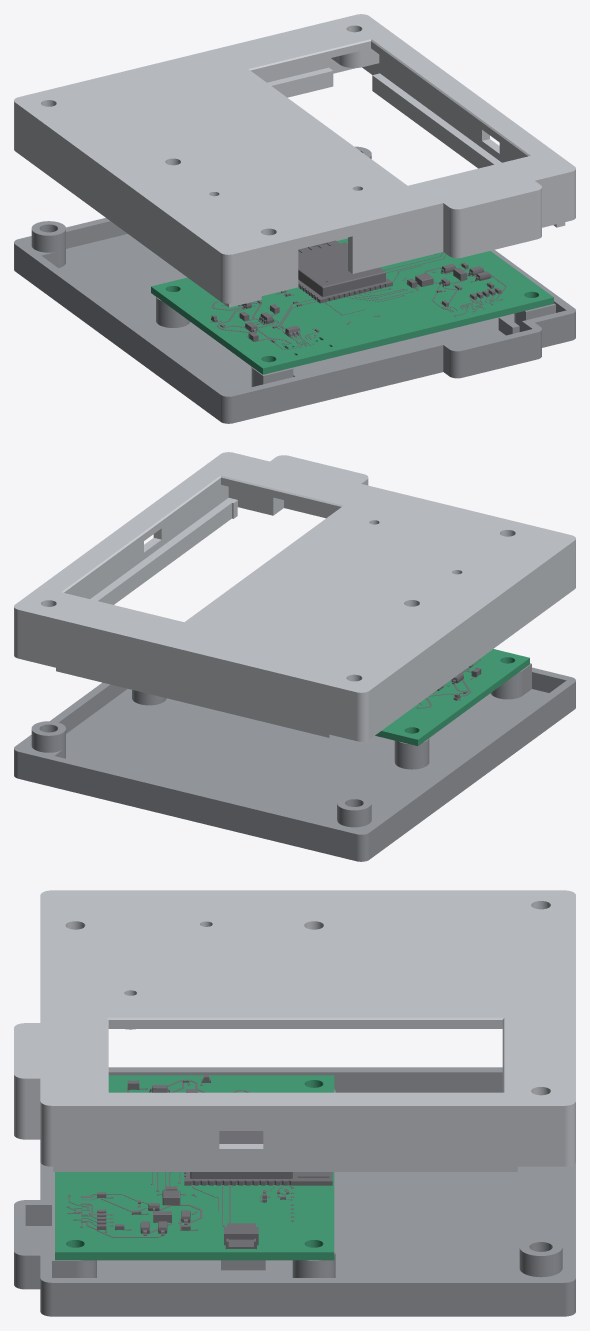
Rendered from enclosure.glb.
The picture shows the model from 3 angles, top to bottom: view 1: azimuth 30°, elevation 25°; view 2: azimuth 150°, elevation 25°; view 3: azimuth 270°, elevation 25°; orthographic projection. The views are drawn at different scales.
Bounding box in the file's own units: 0.0876 × 0.0399 × 0.0965.
